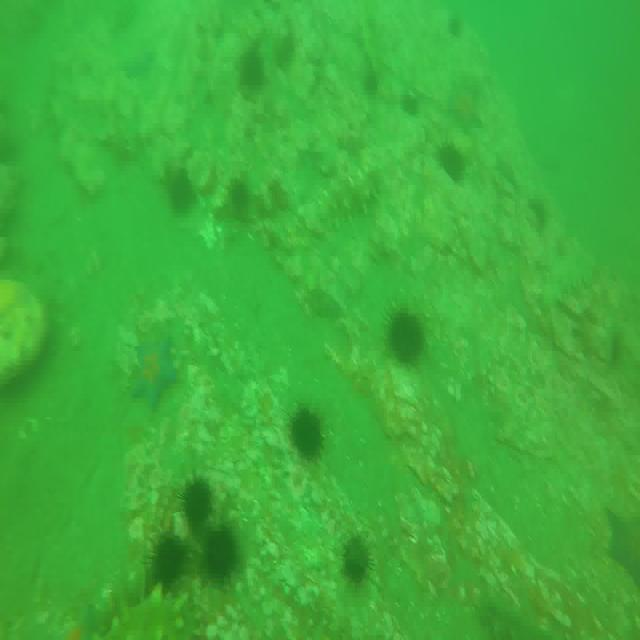echinus: (204, 524, 239, 584), (388, 308, 421, 367), (290, 411, 324, 464), (152, 536, 188, 585), (339, 536, 371, 591), (182, 481, 214, 534), (164, 162, 194, 218), (437, 141, 465, 183), (244, 54, 265, 97), (400, 84, 422, 116), (230, 180, 250, 205)
holothurian: (92, 595, 192, 640), (327, 166, 384, 222), (485, 595, 549, 640)
starfish: (605, 501, 640, 590), (131, 338, 178, 403), (446, 79, 484, 127), (121, 46, 159, 81)
